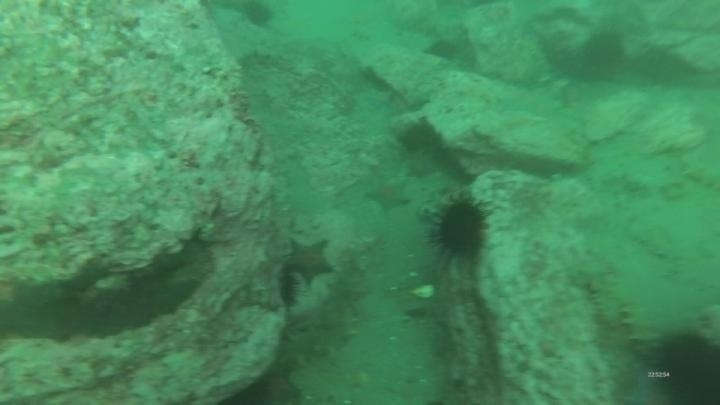echinus: (649, 328, 719, 404), (427, 193, 492, 265), (580, 29, 627, 75), (396, 119, 438, 156), (424, 36, 462, 64), (240, 2, 276, 30)
holothurian: (307, 258, 377, 358), (276, 303, 361, 371), (236, 52, 289, 154), (577, 263, 628, 331), (618, 298, 664, 361)
starfish: (282, 236, 337, 287), (256, 363, 305, 405), (363, 174, 413, 215)
